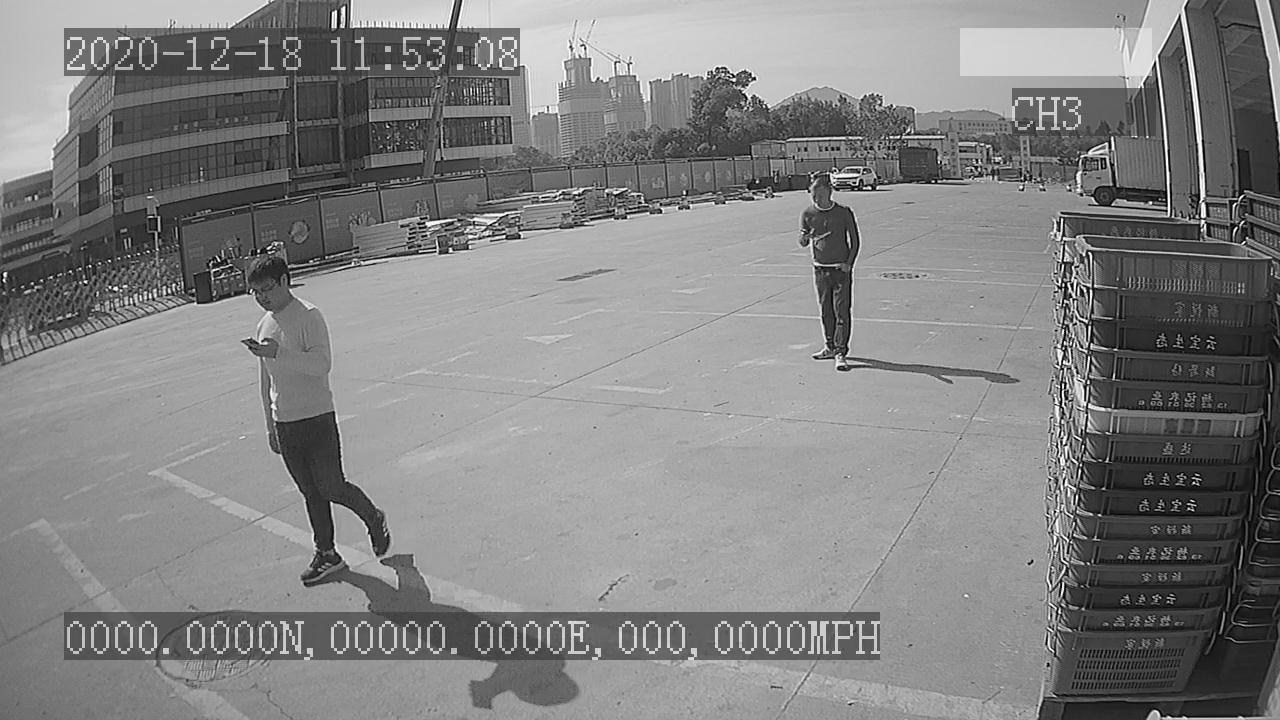person: (229, 251, 399, 594), (790, 172, 861, 376)
